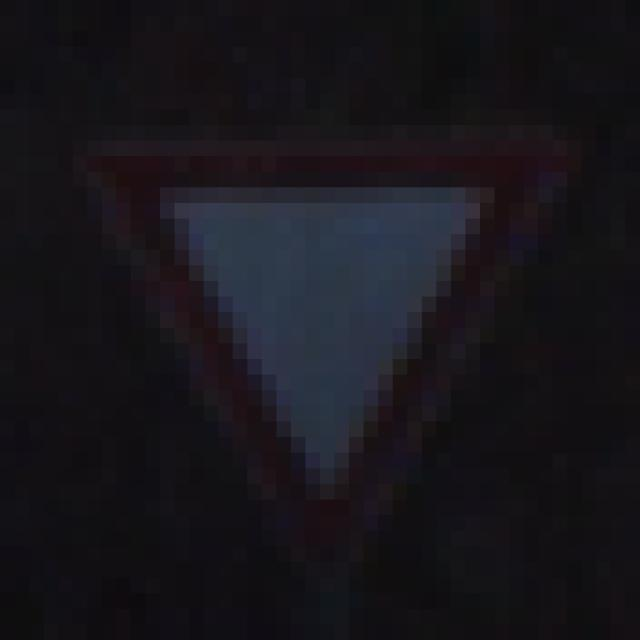Give Way: (74, 79, 568, 563)
